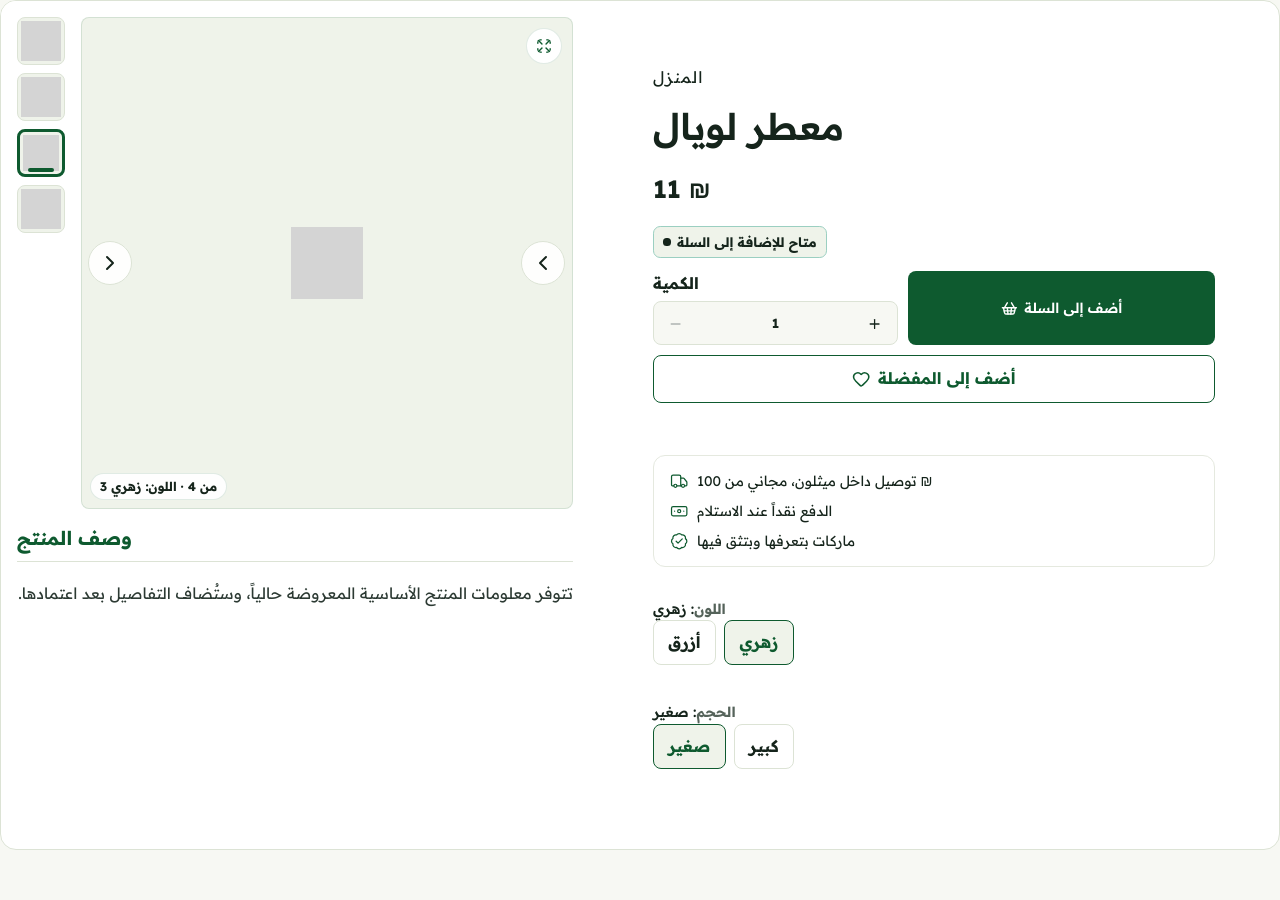
it: product page selection › an archived variant can never be reached; its size moves the colour instead
This screenshot has width=1280, height=900.
Click the radio button labelled "أزرق" at (684, 643), box [653,620,716,665]
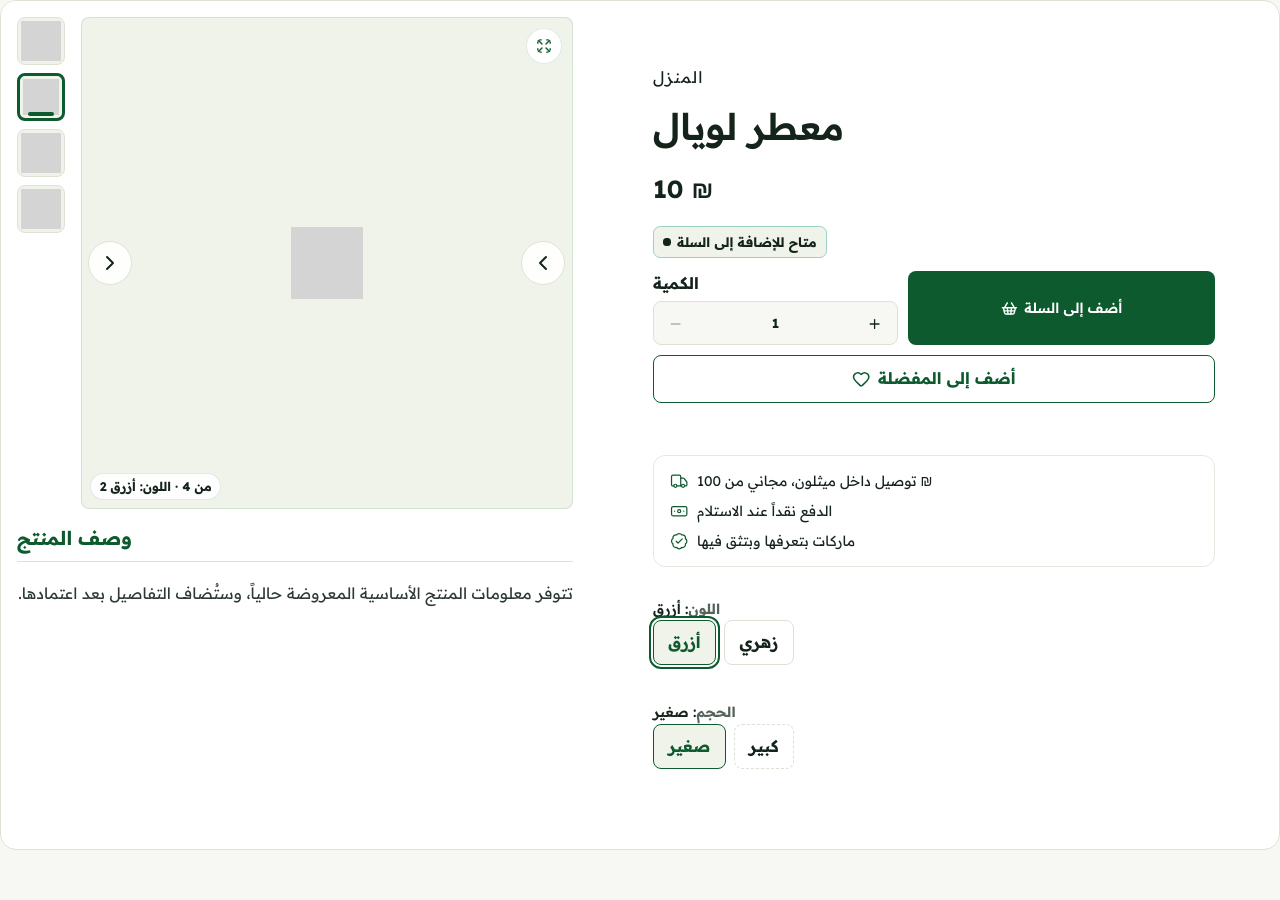
Click the radio button labelled "كبير" at (764, 746), box [734,724,794,769]
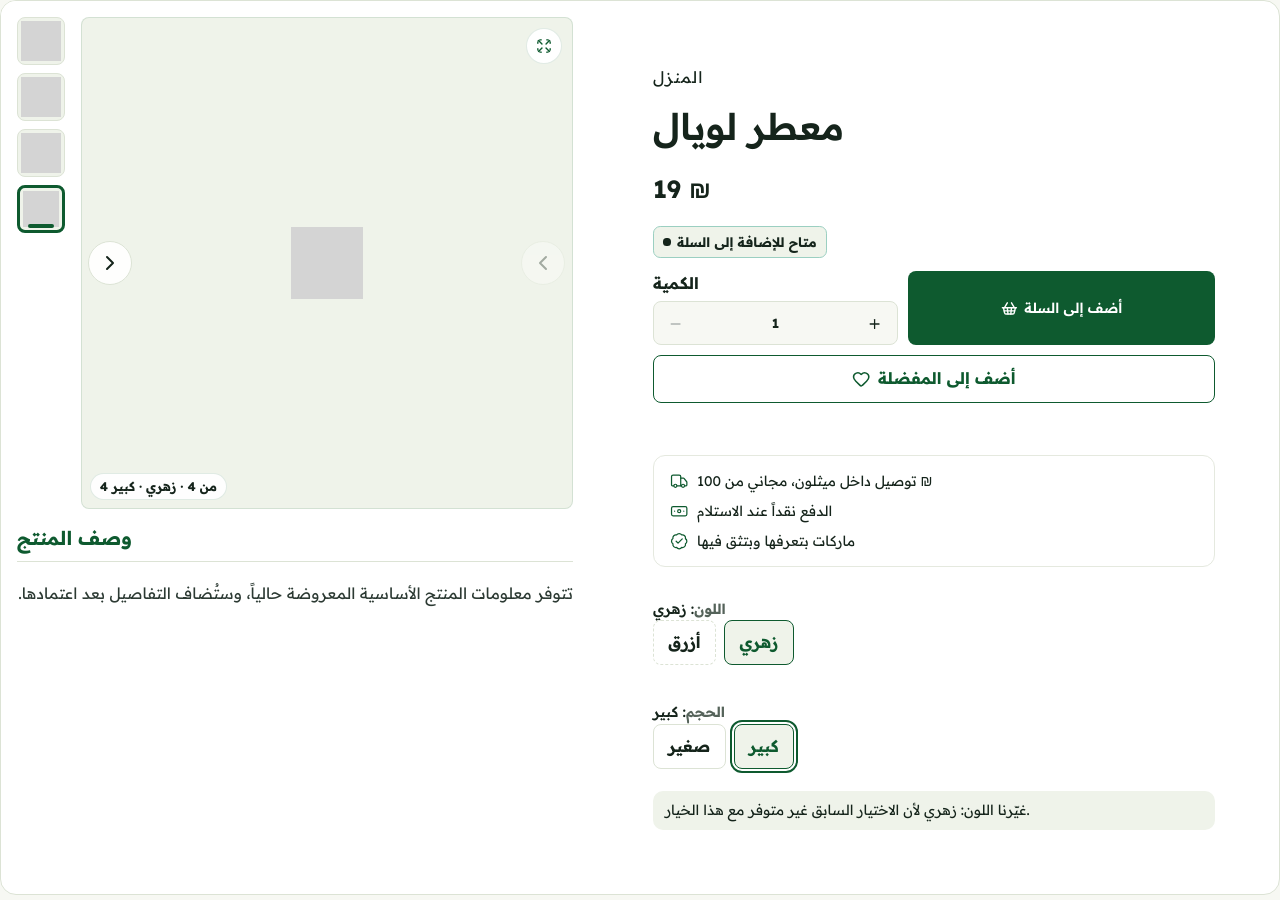
expect the radio button labelled "كبير" is checked: met, box [734,724,794,769]
expect the element named "السعر 19 ₪" is shown: met, box [653,173,711,204]
